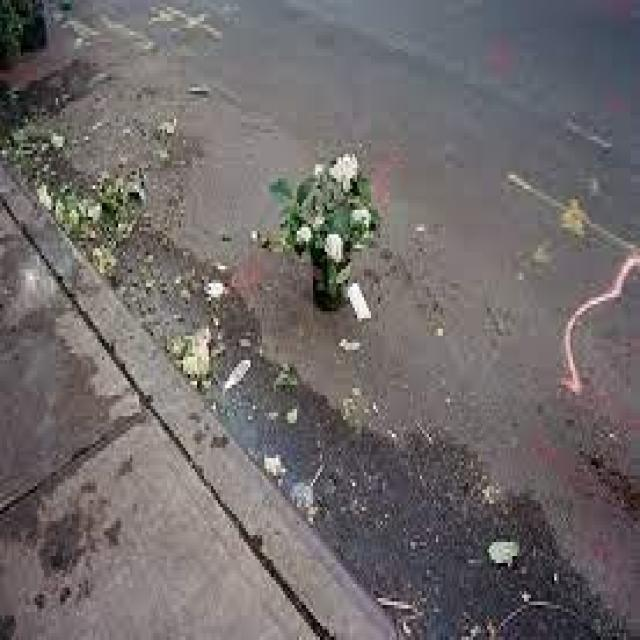curb: (21, 203, 388, 640)
